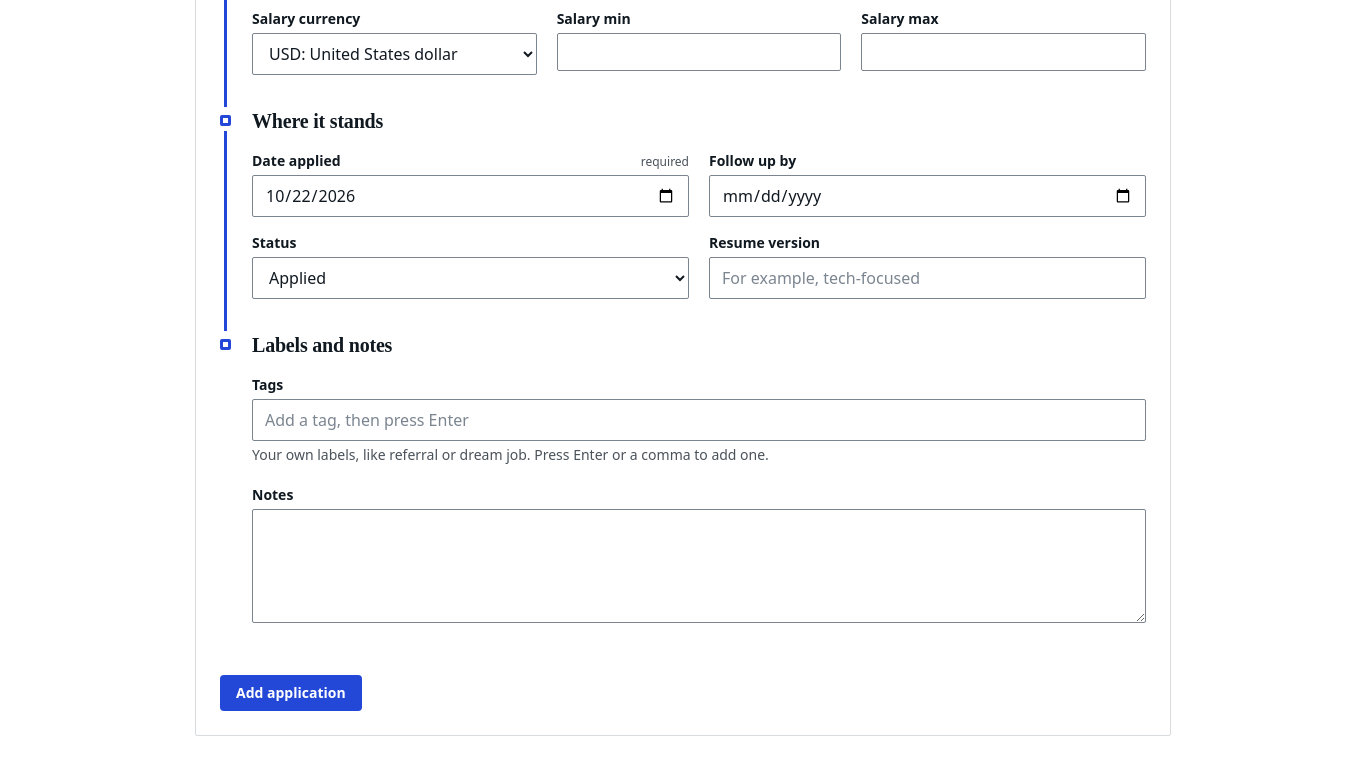
Scenario: add application form › does not submit without the required fields, and says what is missing under each one
(page scrolled)
Click the button "Add application" at (291, 693), box [220,675,362,711]
(page scrolled)
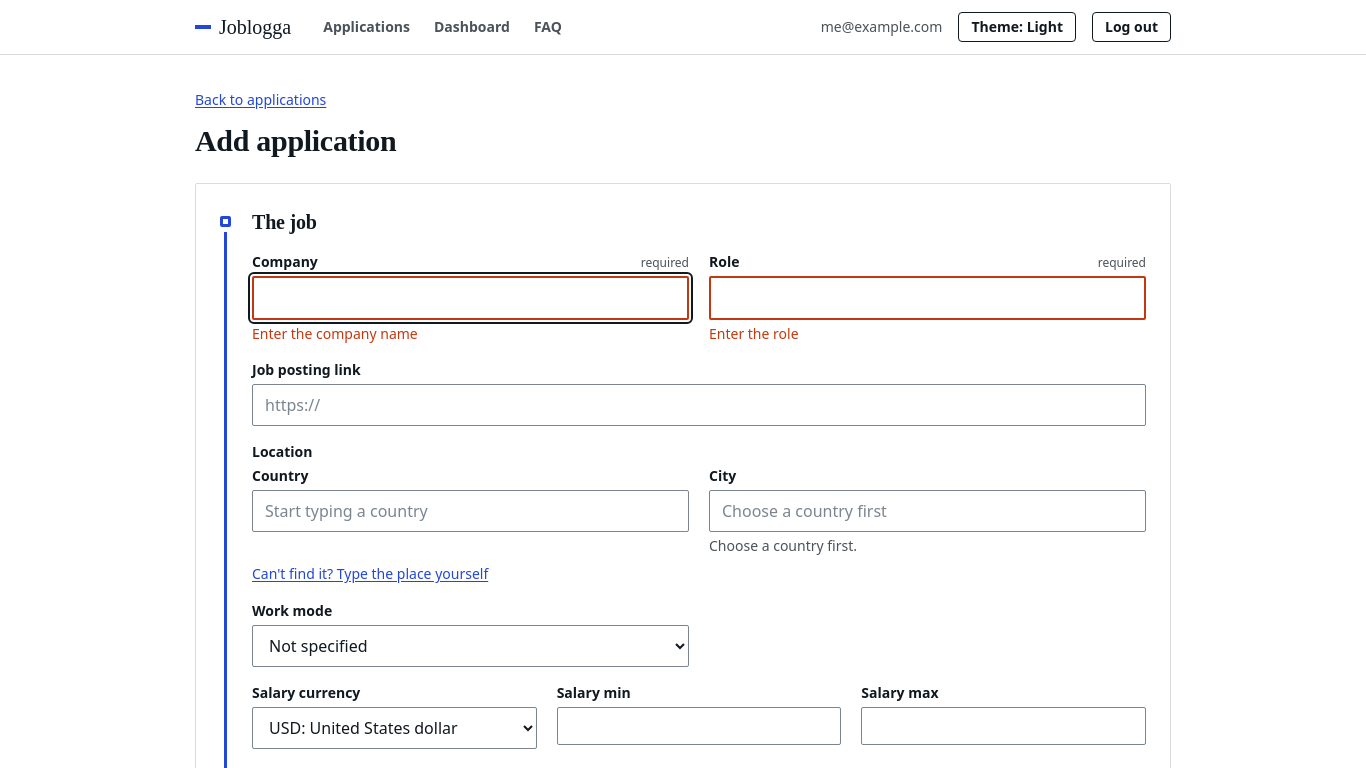
expect the text "Enter the company name" is shown: met, box [252,324,418,343]
expect the text "Enter the role" is shown: met, box [709,324,798,343]
